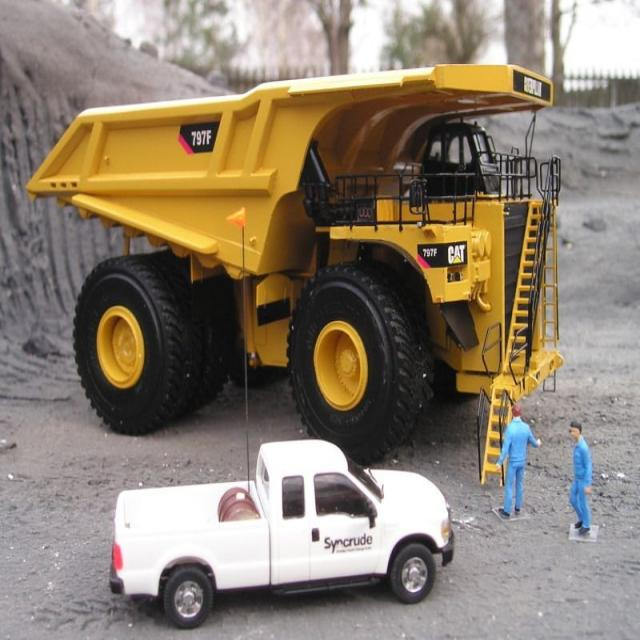dump_truck: (21, 56, 566, 446)
light_vehicle: (88, 437, 458, 623)
